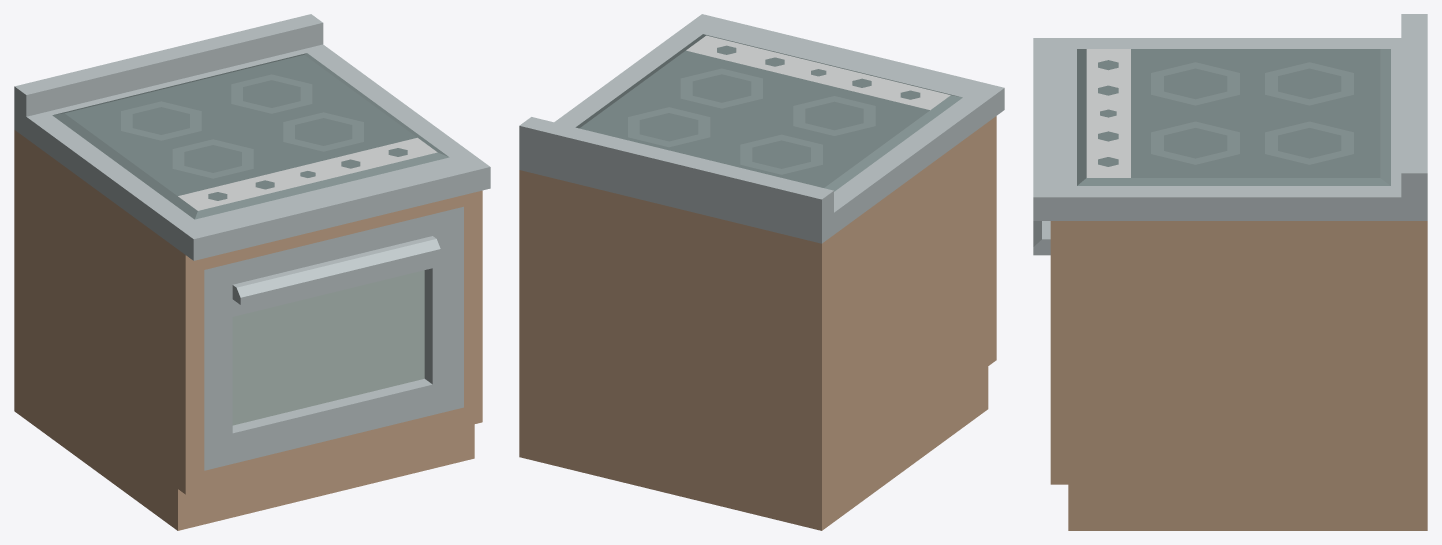
Rendered from kitchenStoveElectric.glb.
3 renders of one model, left to right at view 1: azimuth 30°, elevation 25°; view 2: azimuth 150°, elevation 25°; view 3: azimuth 270°, elevation 25°, orthographic. The views are drawn at different scales.
Parts seen in each view (by area): view 1: kitchenStoveElectric; view 2: kitchenStoveElectric; view 3: kitchenStoveElectric.
Boxes of the visible parts, bbox=[...] form: kitchenStoveElectric: bbox=[14, 14, 490, 530]; kitchenStoveElectric: bbox=[519, 14, 1004, 530]; kitchenStoveElectric: bbox=[1033, 14, 1427, 530].
Size of the model in its own units: 0.43 by 0.45 by 0.45.
